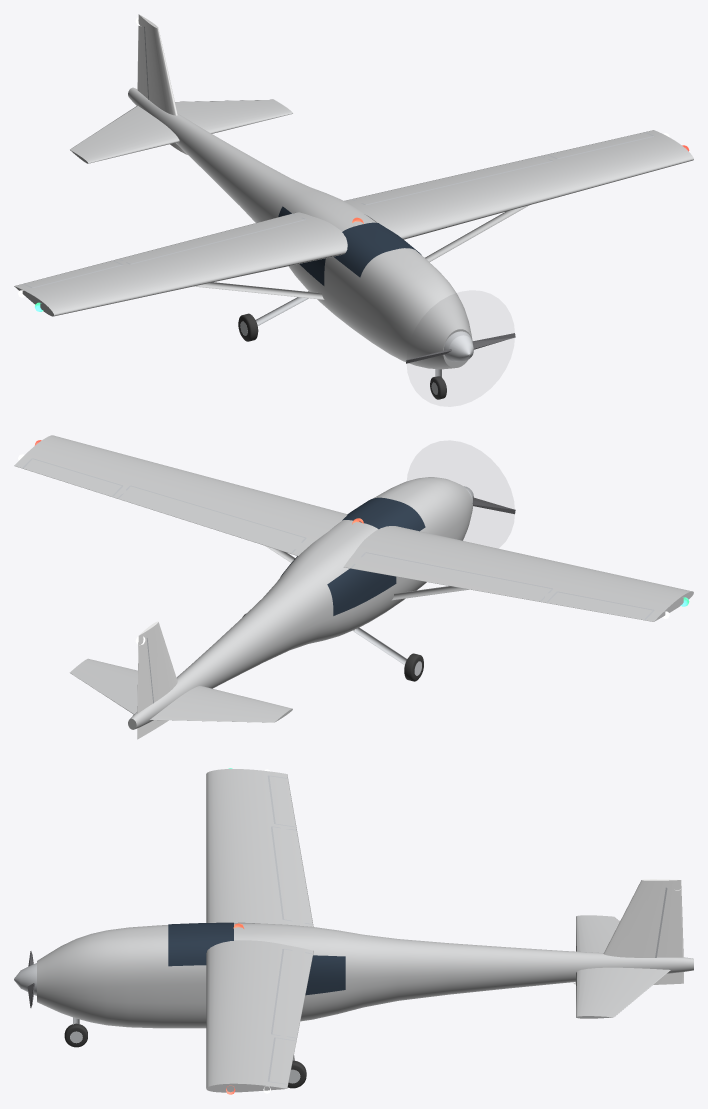
3 views of the same model, one above another, from view 1: azimuth 30°, elevation 25°; view 2: azimuth 150°, elevation 25°; view 3: azimuth 270°, elevation 25° (orthographic).
Parts seen in each view (by area): view 1: airframe; view 2: airframe; view 3: airframe.
Part boxes in pixels (left/top/right/bottom): airframe: left=14, top=14, right=693, bottom=399; airframe: left=14, top=435, right=693, bottom=739; airframe: left=14, top=768, right=693, bottom=1094.
Size of the model in its own units: 11.22 by 2.71 by 10.04.
